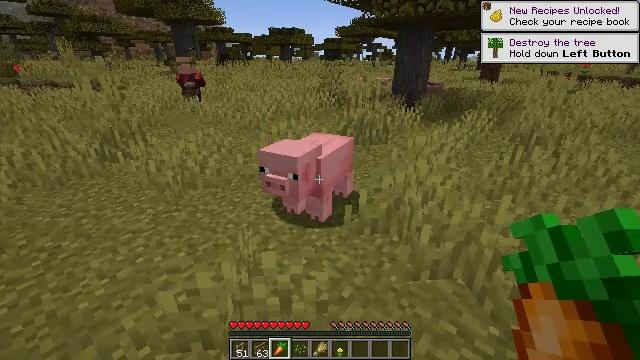pig: (260, 133, 353, 214)
